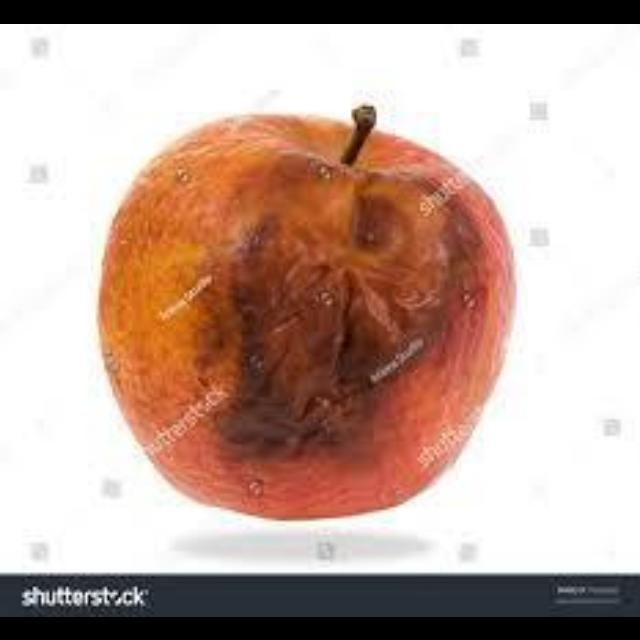apple: (99, 103, 514, 517)
rotten: (206, 162, 496, 454)
